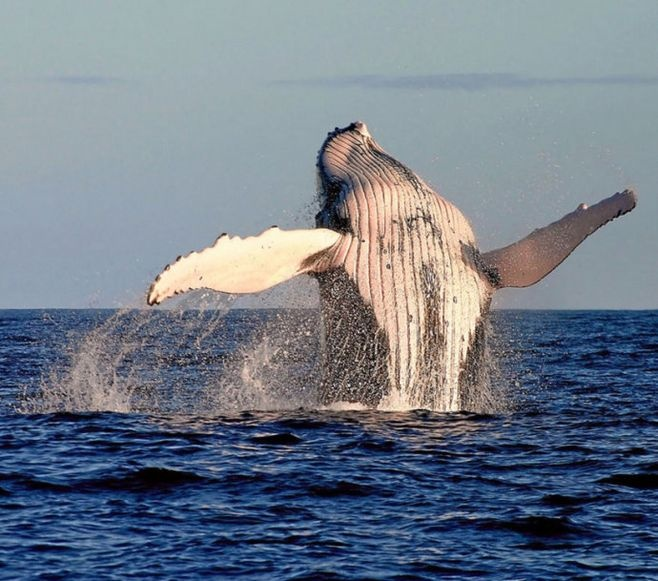fish: (142, 116, 638, 428)
